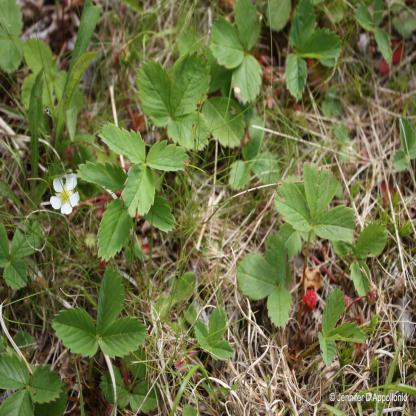strawberry leaf: (114, 161, 161, 233), (98, 312, 163, 361), (93, 116, 145, 173), (49, 306, 103, 359), (93, 250, 127, 334), (146, 139, 191, 178)
